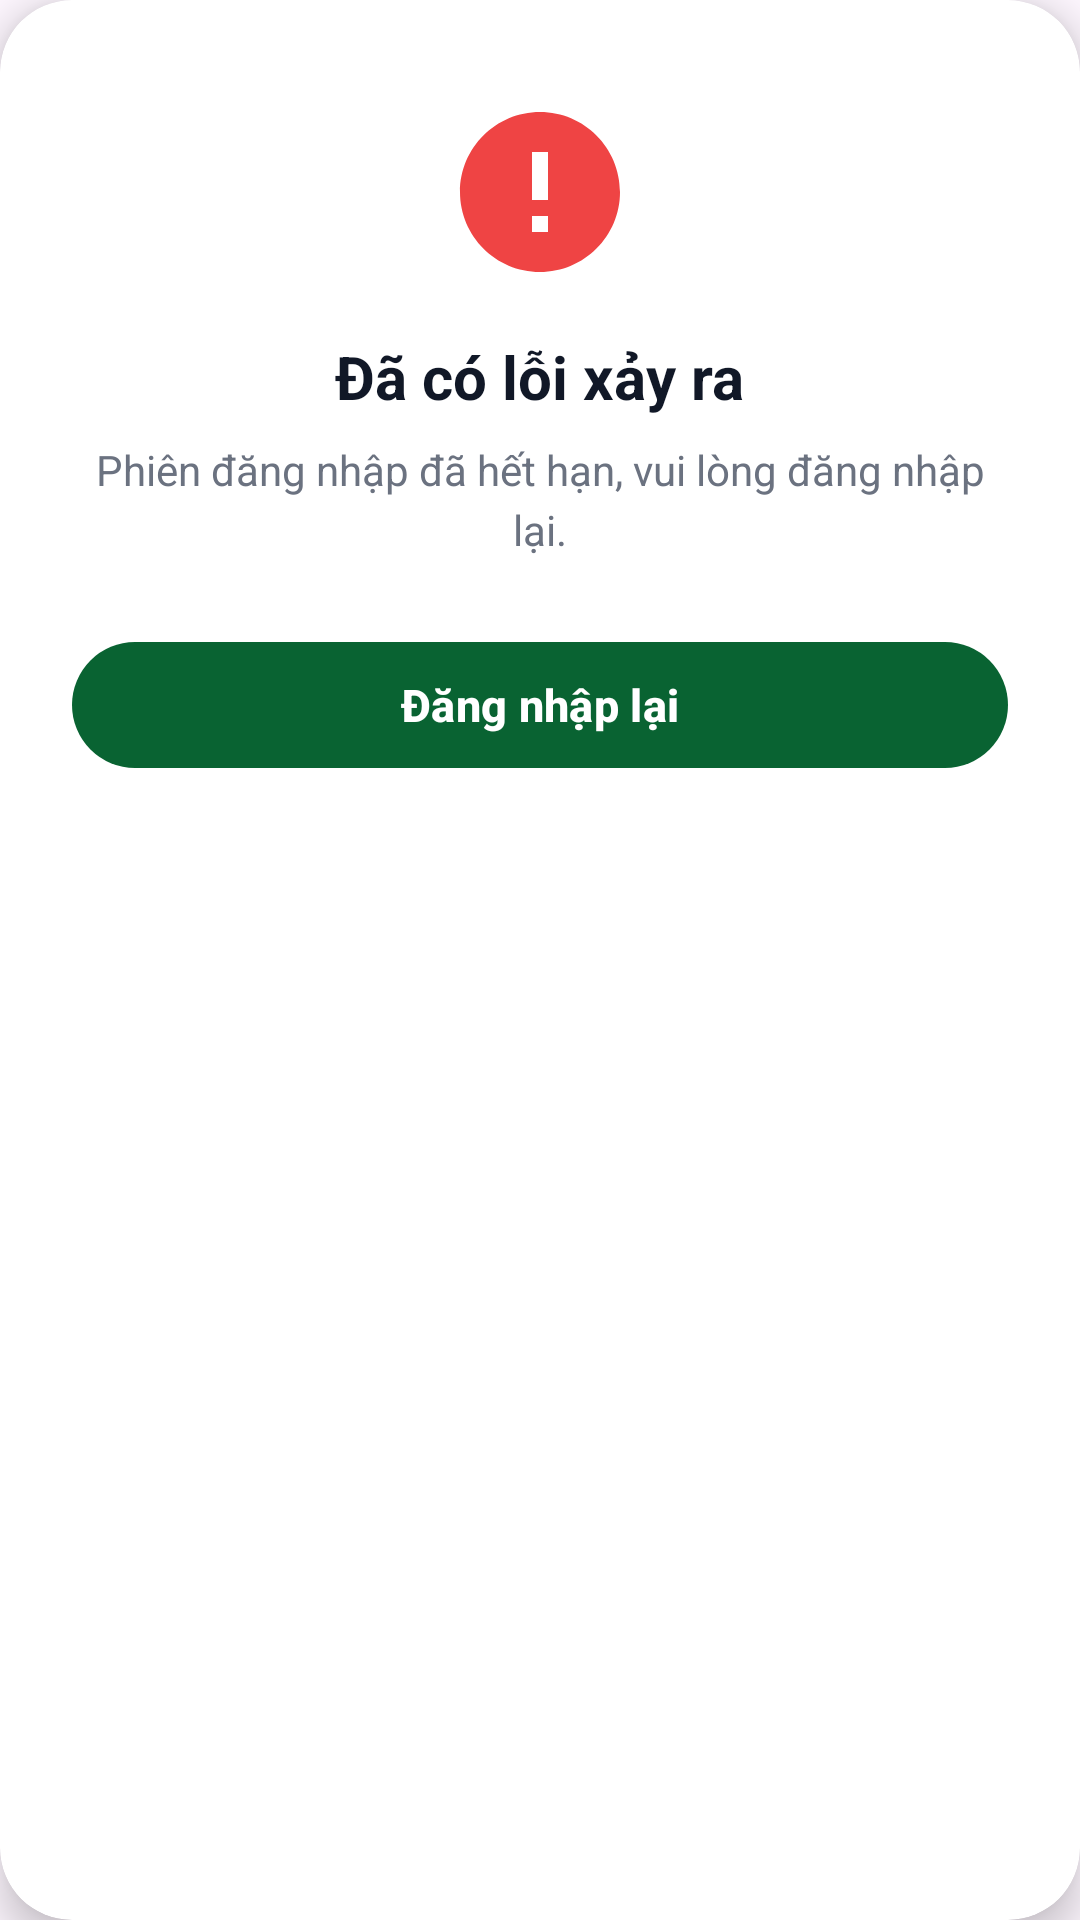

Point at icon controls on the screen. Image size 1080×1920, points as (x,y).
warning: (540,192)
